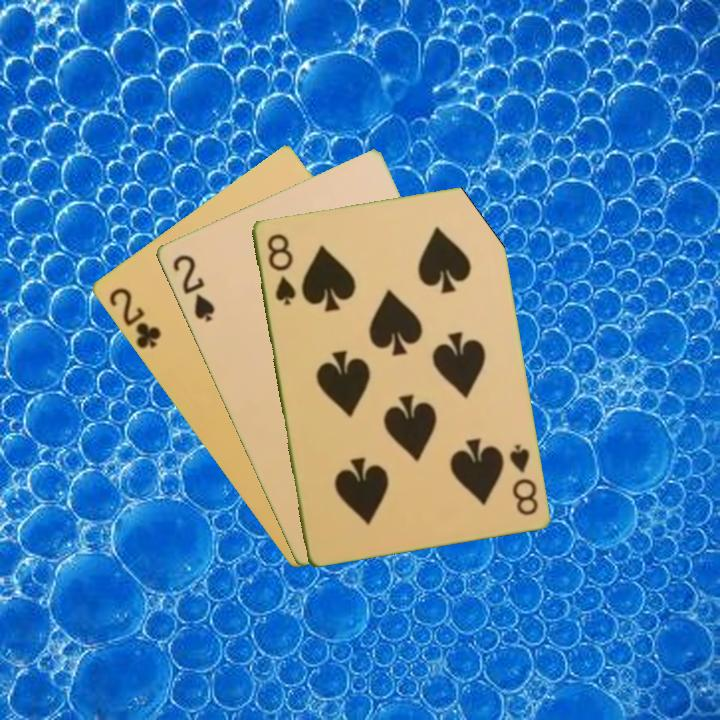2c: (104, 284, 164, 352)
2s: (168, 251, 218, 325)
8s: (505, 440, 541, 518), (263, 229, 298, 308)
